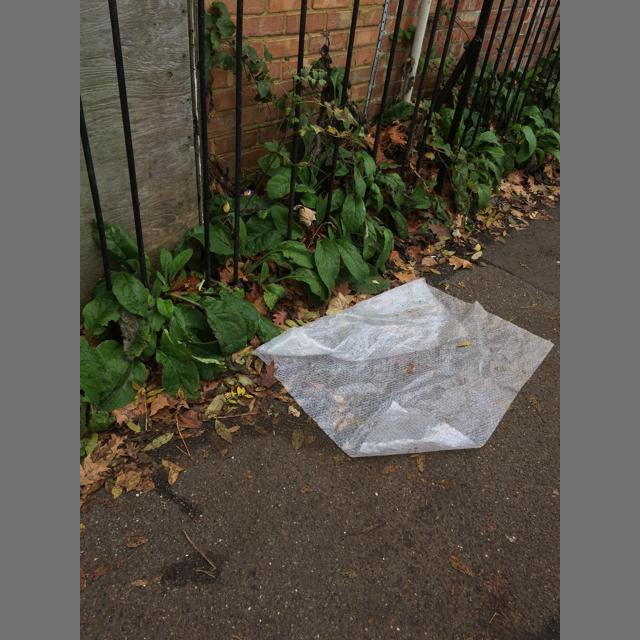litter: (252, 277, 555, 457)
